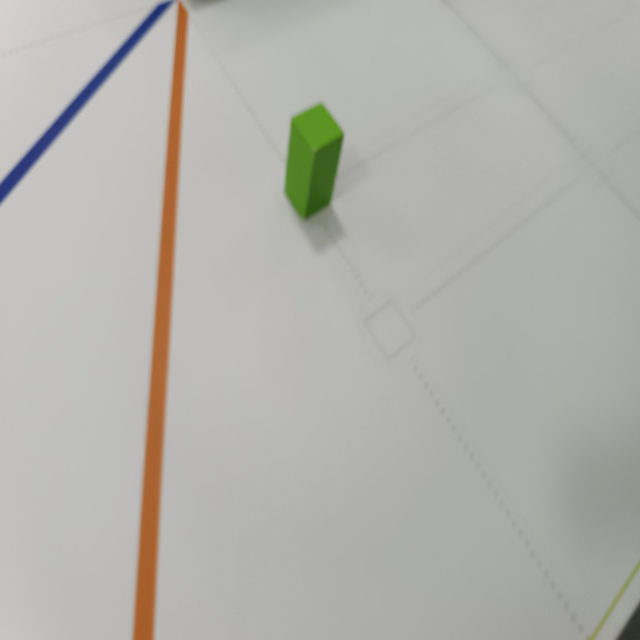blue line: (0, 0, 180, 211)
green rectangular prism: (280, 99, 345, 222)
orange line: (128, 3, 188, 640)
